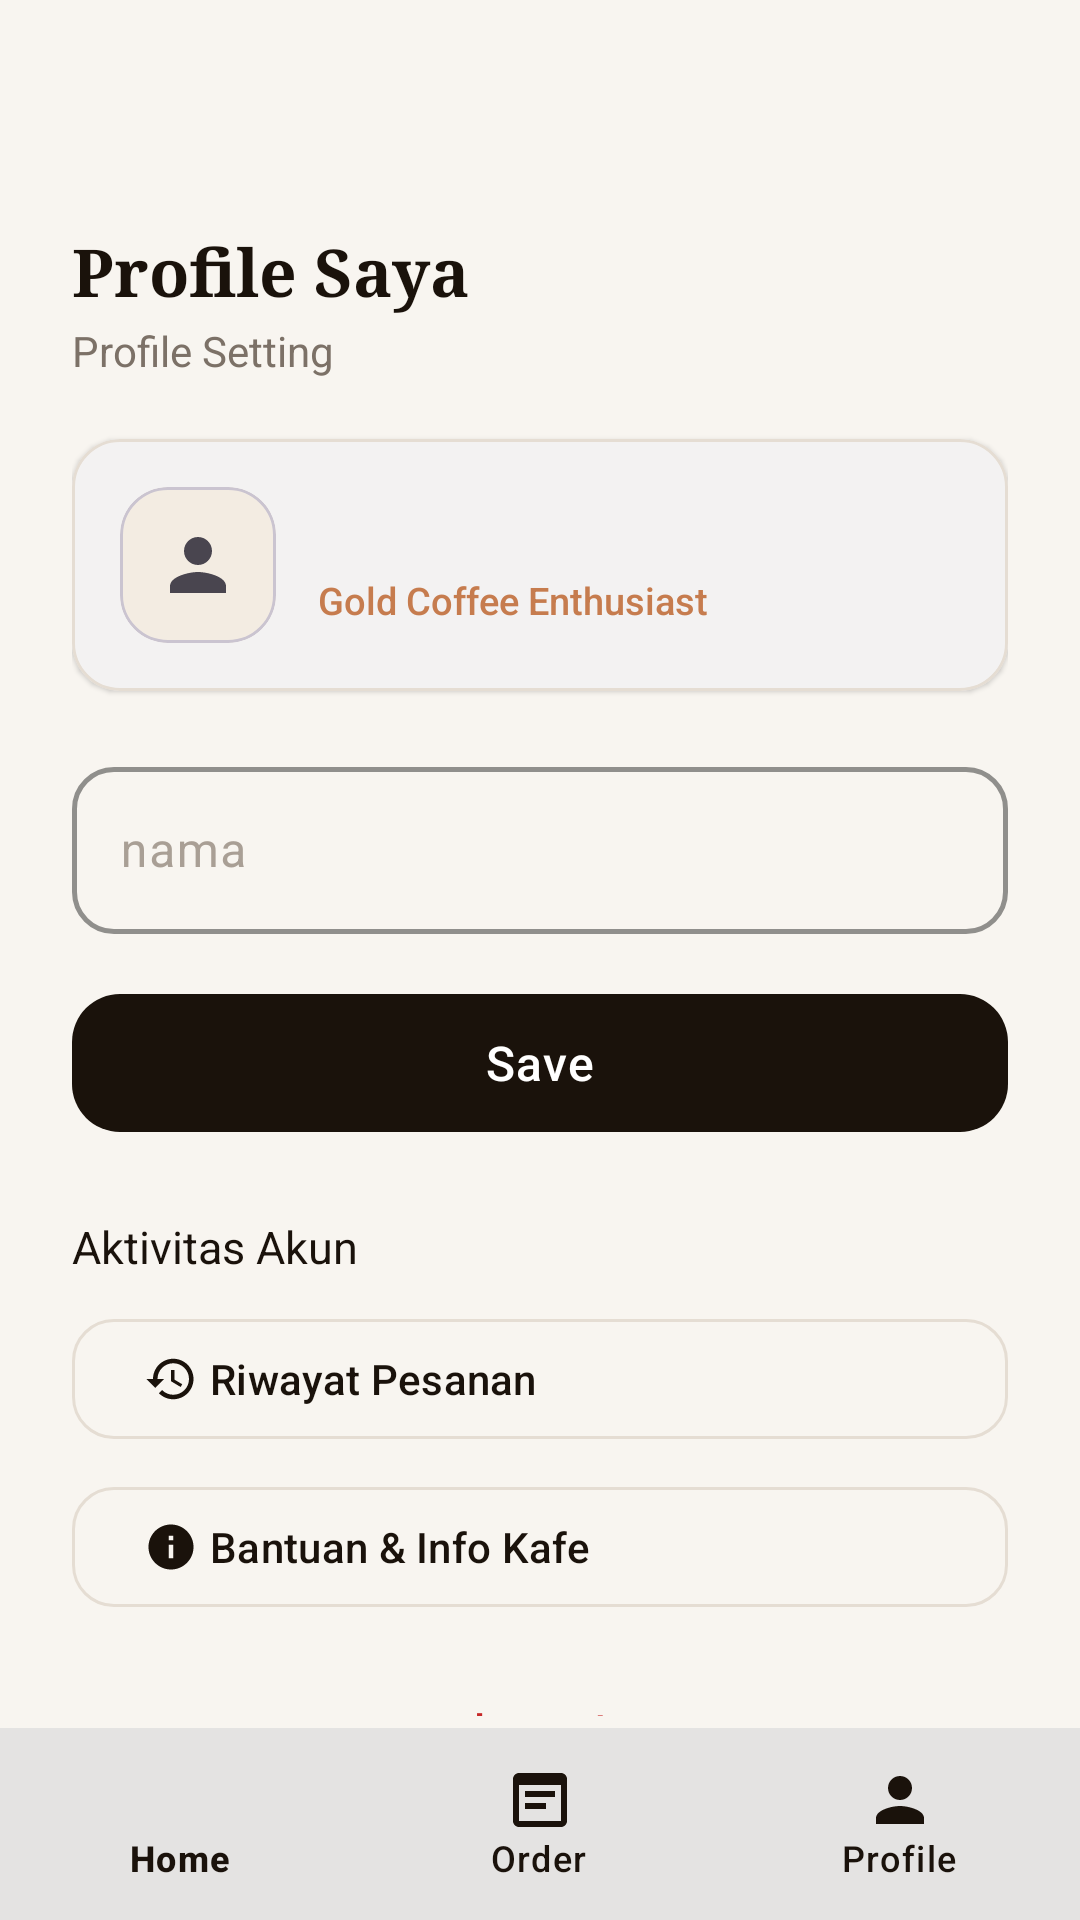

Locate icon controls on the screen. Image size 1080×1920, boxes as (x1, y1, x2, y2).
Avatar: (120, 487, 276, 643)
